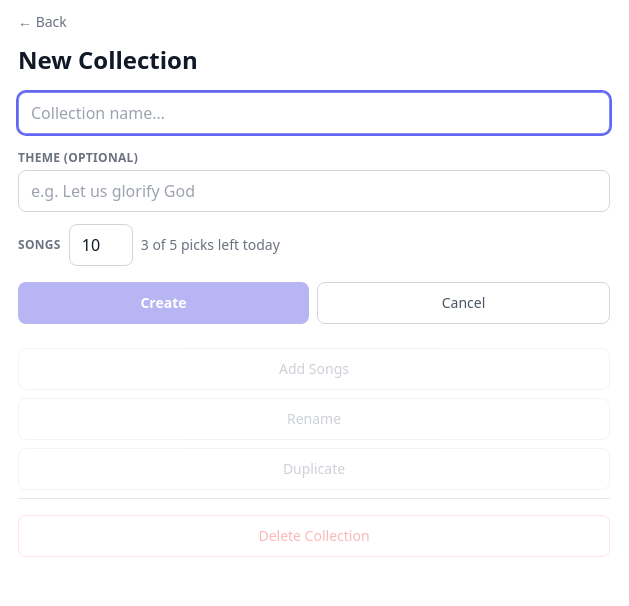
NewCollectionCreator — theme picker › picker asleep shows the friendly message and creates nothing
Expected: the text "3 of 5 picks left today" is shown, [141,235,280,255]
Type "Sunday" into the field with placeholder "Collection name…" at (314, 113), box [18,92,610,134]
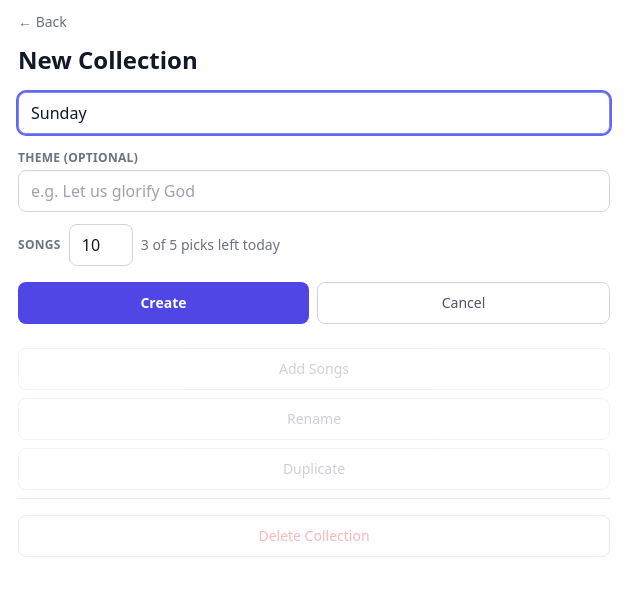
Type "Let us glorify God" into the field labelled "Theme (optional)" at (314, 191), box [18,170,610,212]
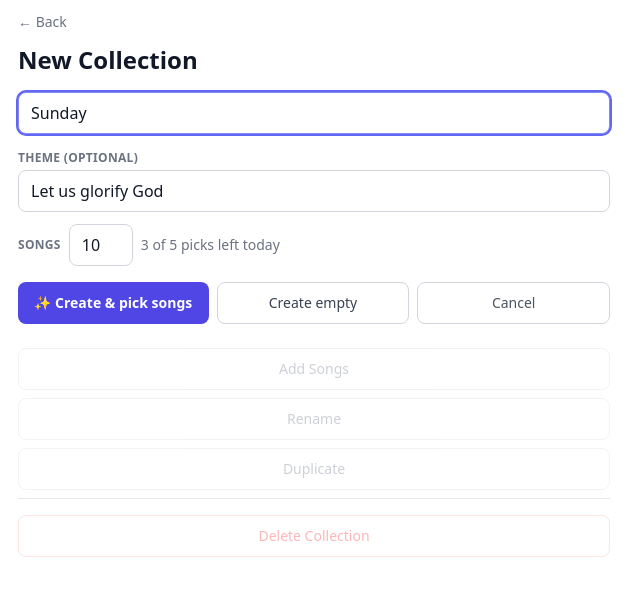
Click the button "✨ Create & pick songs" at (113, 303), box [18,282,209,324]
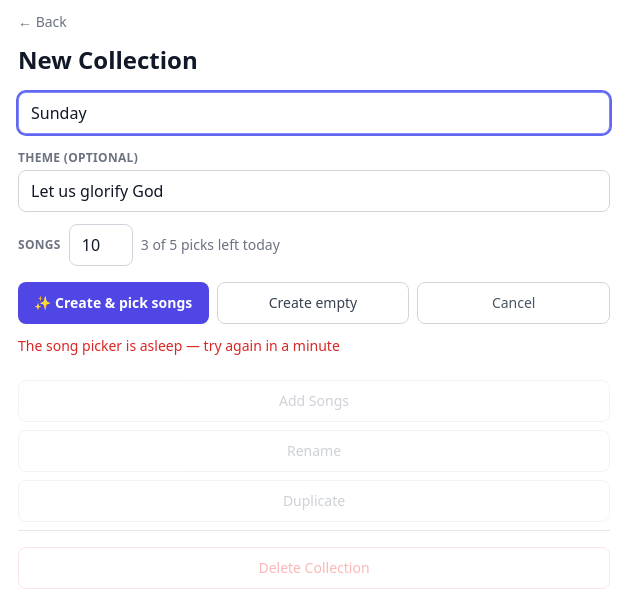
Result: the text "The song picker is asleep — try again in a minute" is shown at [18,336,340,355]
